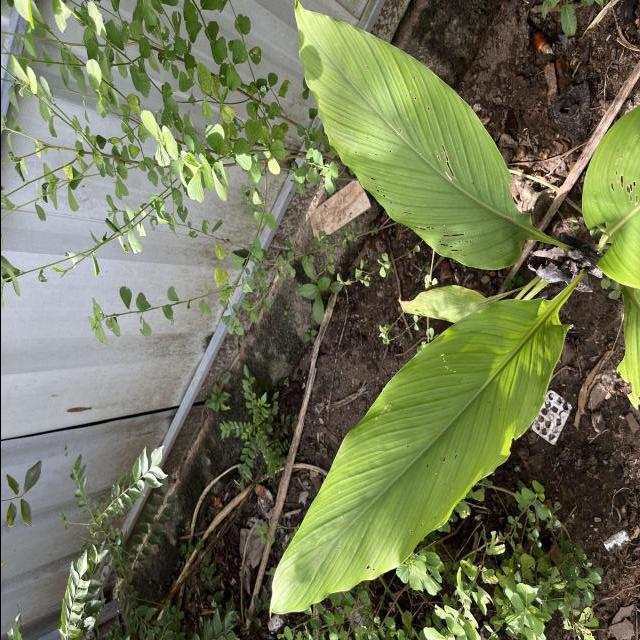Curcuma longa: (266, 293, 572, 620), (292, 0, 536, 274)
